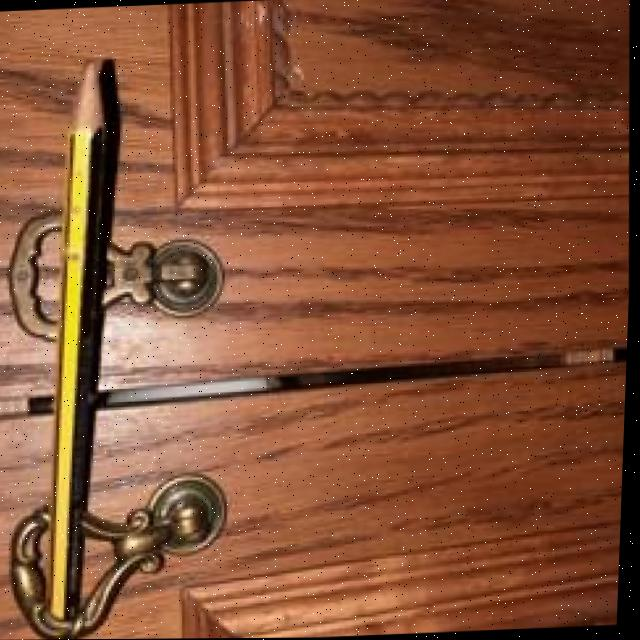pencil: (24, 53, 138, 640)
